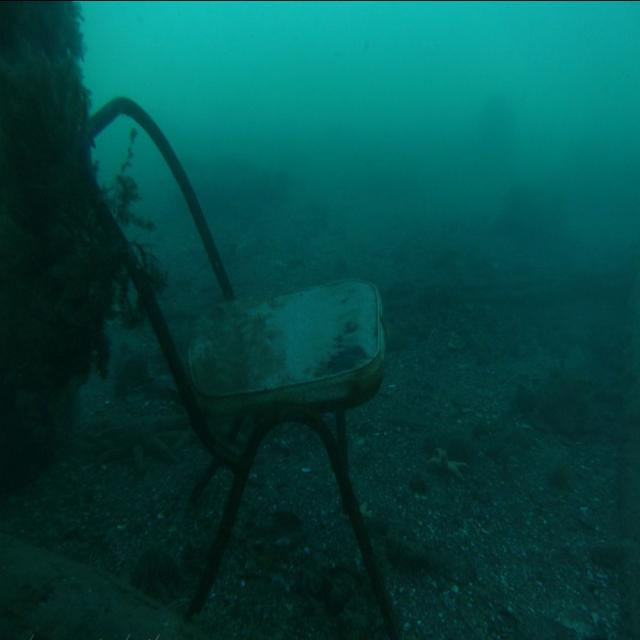chair: (74, 85, 410, 640)
